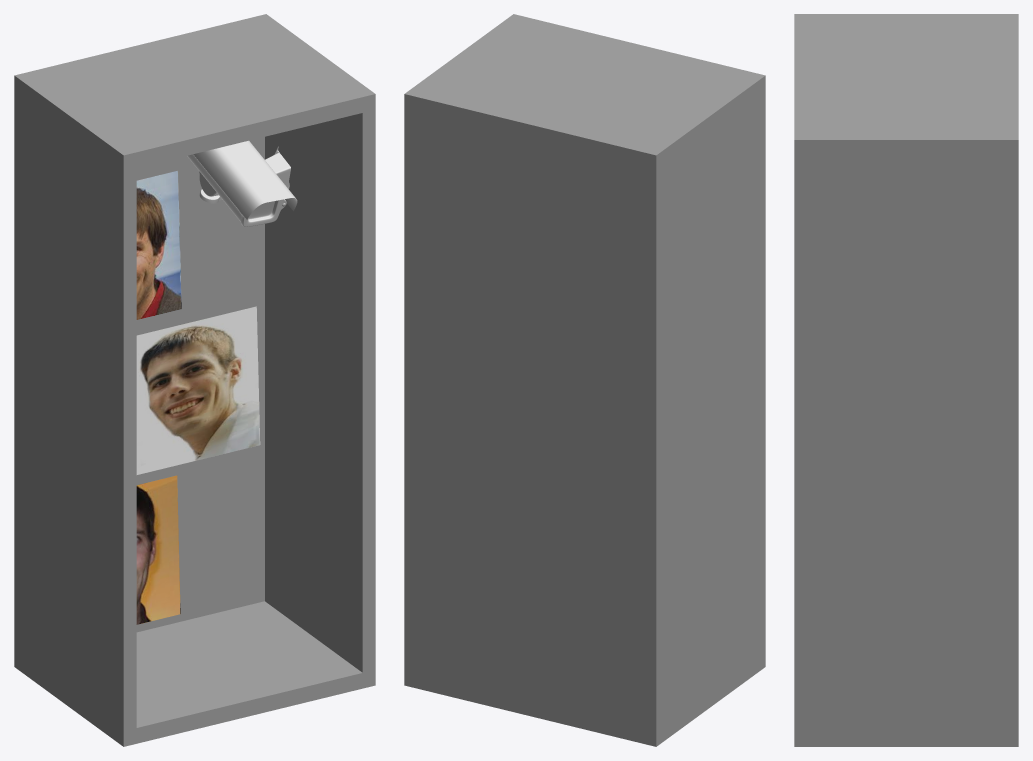
The model's file is stalk.fbx.
3 views of the same model, side by side, from view 1: azimuth 30°, elevation 25°; view 2: azimuth 150°, elevation 25°; view 3: azimuth 270°, elevation 25° (orthographic). The views are drawn at different scales.
Parts seen in each view (by area): view 1: emptyLocker:pCube1, pPlane2, pPlane1, pPlane3, SecurityCamera, SecurityCameraBase; view 2: emptyLocker:pCube1; view 3: emptyLocker:pCube1.
Part boxes in pixels (<box>): emptyLocker:pCube1: <box>14,14,375,746</box>; pPlane2: <box>136,306,260,474</box>; pPlane1: <box>136,170,181,319</box>; pPlane3: <box>136,475,180,624</box>; SecurityCamera: <box>187,140,297,226</box>; SecurityCameraBase: <box>199,146,290,203</box>; emptyLocker:pCube1: <box>404,14,765,746</box>; emptyLocker:pCube1: <box>794,14,1018,746</box>.
Size of the model in its own units: 1.93 by 4.34 by 1.45.
